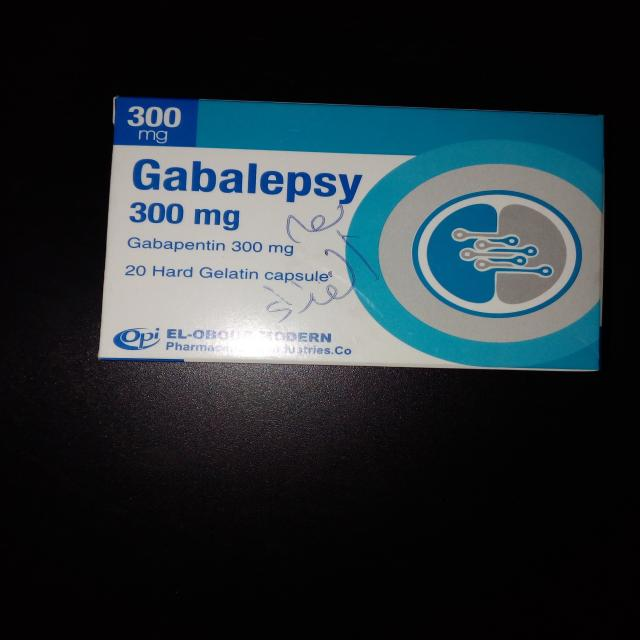Medicine: (101, 92, 608, 373)
